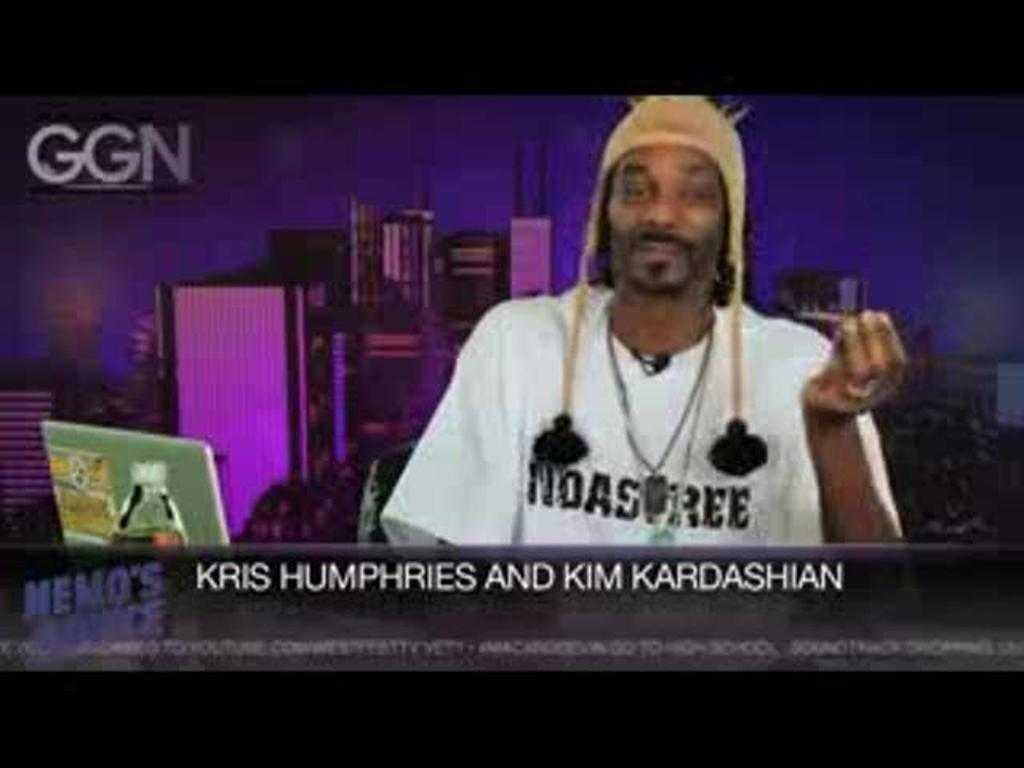face: (614, 152, 722, 292)
